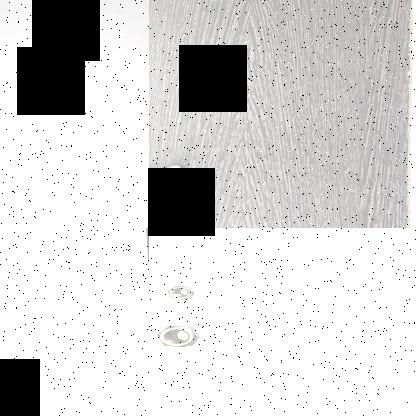Bolts: (149, 162, 196, 194)
NUTS: (152, 320, 206, 350), (158, 283, 201, 301)
